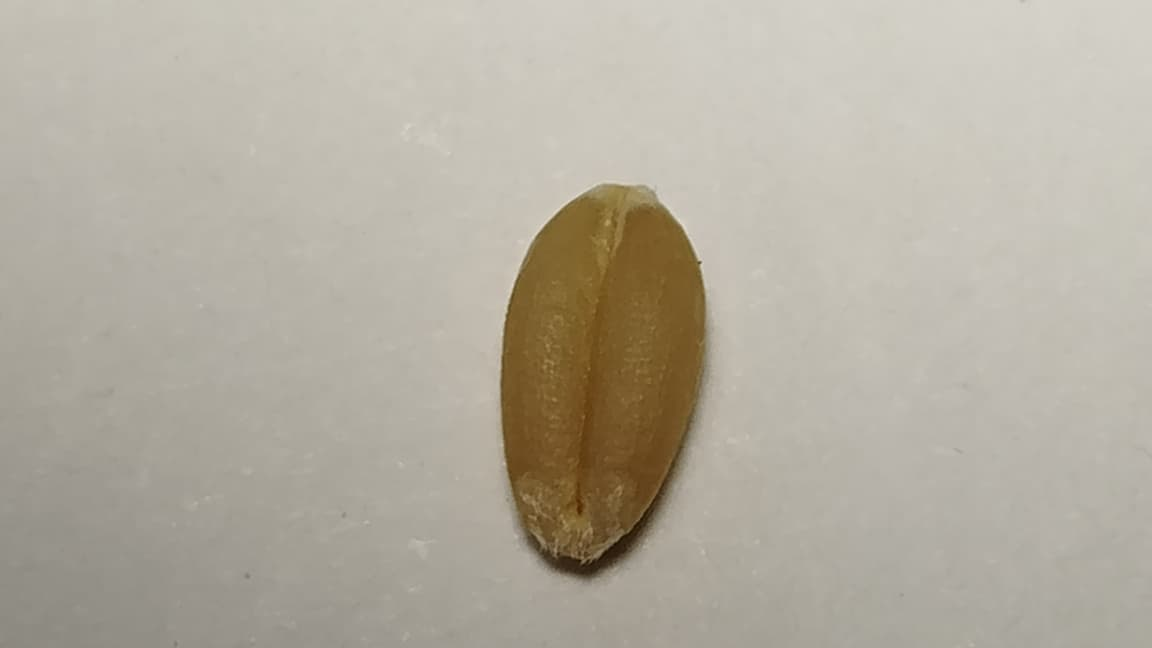healthy: (502, 186, 704, 559)
